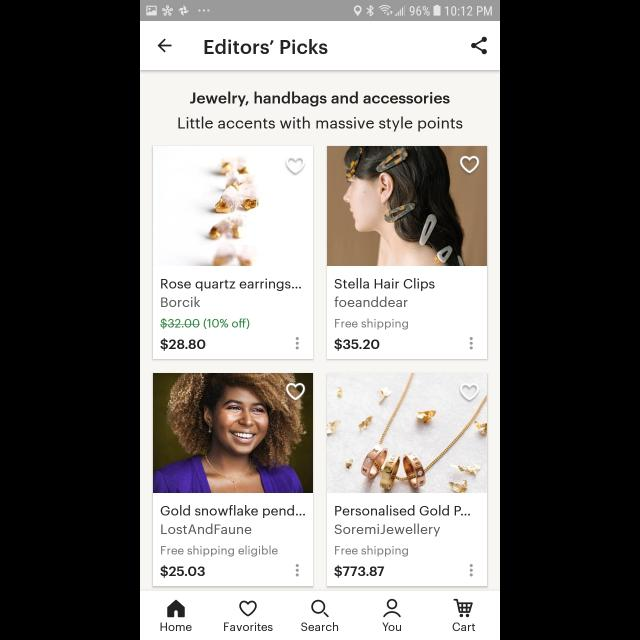icon: (453, 598, 473, 618), (383, 598, 401, 618), (460, 156, 480, 174), (286, 156, 306, 174), (460, 384, 480, 401), (311, 599, 329, 617), (167, 599, 185, 617), (287, 384, 305, 401), (239, 600, 257, 616), (471, 37, 487, 55), (158, 39, 172, 53), (469, 564, 473, 576), (296, 564, 300, 576), (470, 338, 474, 350), (296, 338, 300, 350)
image: (327, 374, 487, 494), (153, 373, 313, 493), (327, 146, 487, 266), (154, 146, 314, 266)
text: (178, 116, 462, 132), (160, 505, 306, 535), (334, 506, 470, 536), (161, 279, 301, 307), (190, 92, 450, 106), (335, 278, 435, 308), (205, 39, 328, 55), (162, 546, 278, 556), (160, 318, 250, 330), (336, 318, 408, 330), (335, 546, 409, 556), (334, 338, 380, 352), (335, 566, 385, 578), (160, 566, 206, 578), (162, 338, 206, 350), (224, 622, 272, 632), (301, 622, 339, 632), (160, 622, 192, 632), (453, 623, 475, 631), (382, 622, 402, 630)
uppertaskbar: (140, 1, 500, 22)
